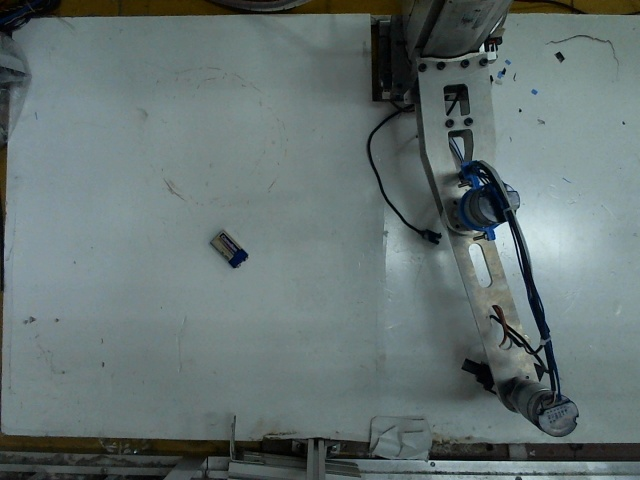battery: (207, 225, 249, 270)
